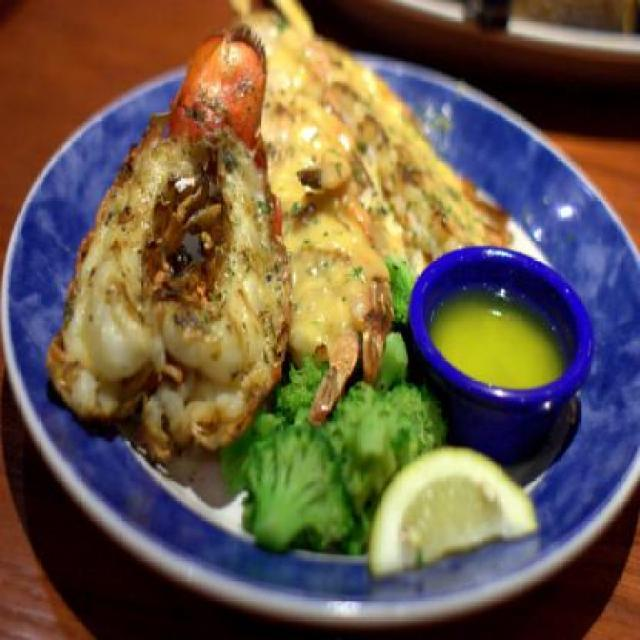Broccoli: (331, 382, 447, 553), (274, 330, 416, 448), (238, 424, 360, 558)
